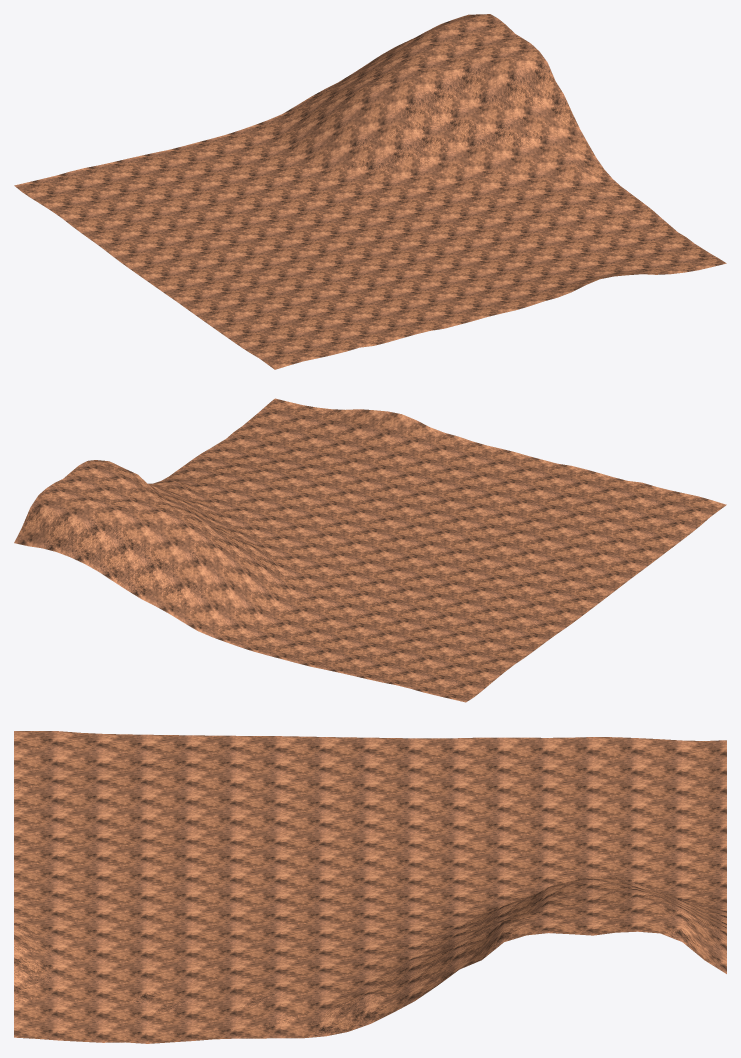
File: terrain_08_04.dae
3 renders of one model, top to bottom at view 1: azimuth 30°, elevation 25°; view 2: azimuth 150°, elevation 25°; view 3: azimuth 270°, elevation 25°, orthographic. The views are drawn at different scales.
Parts seen in each view (by area): view 1: terrain_08_04-node; view 2: terrain_08_04-node; view 3: terrain_08_04-node.
Part boxes in pixels (bbox=[...]): terrain_08_04-node: bbox=[14, 14, 726, 369]; terrain_08_04-node: bbox=[14, 398, 726, 702]; terrain_08_04-node: bbox=[14, 731, 726, 1043].
Size of the model in its own units: 128 by 128 by 22.29.
1 material, 1 textured.
